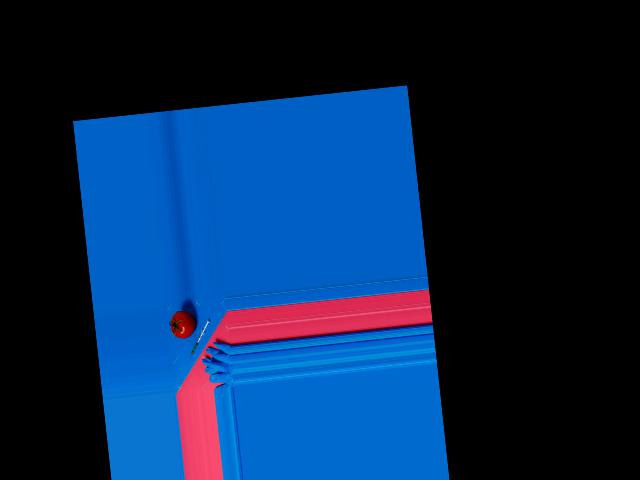tomato: (170, 310, 197, 339)
